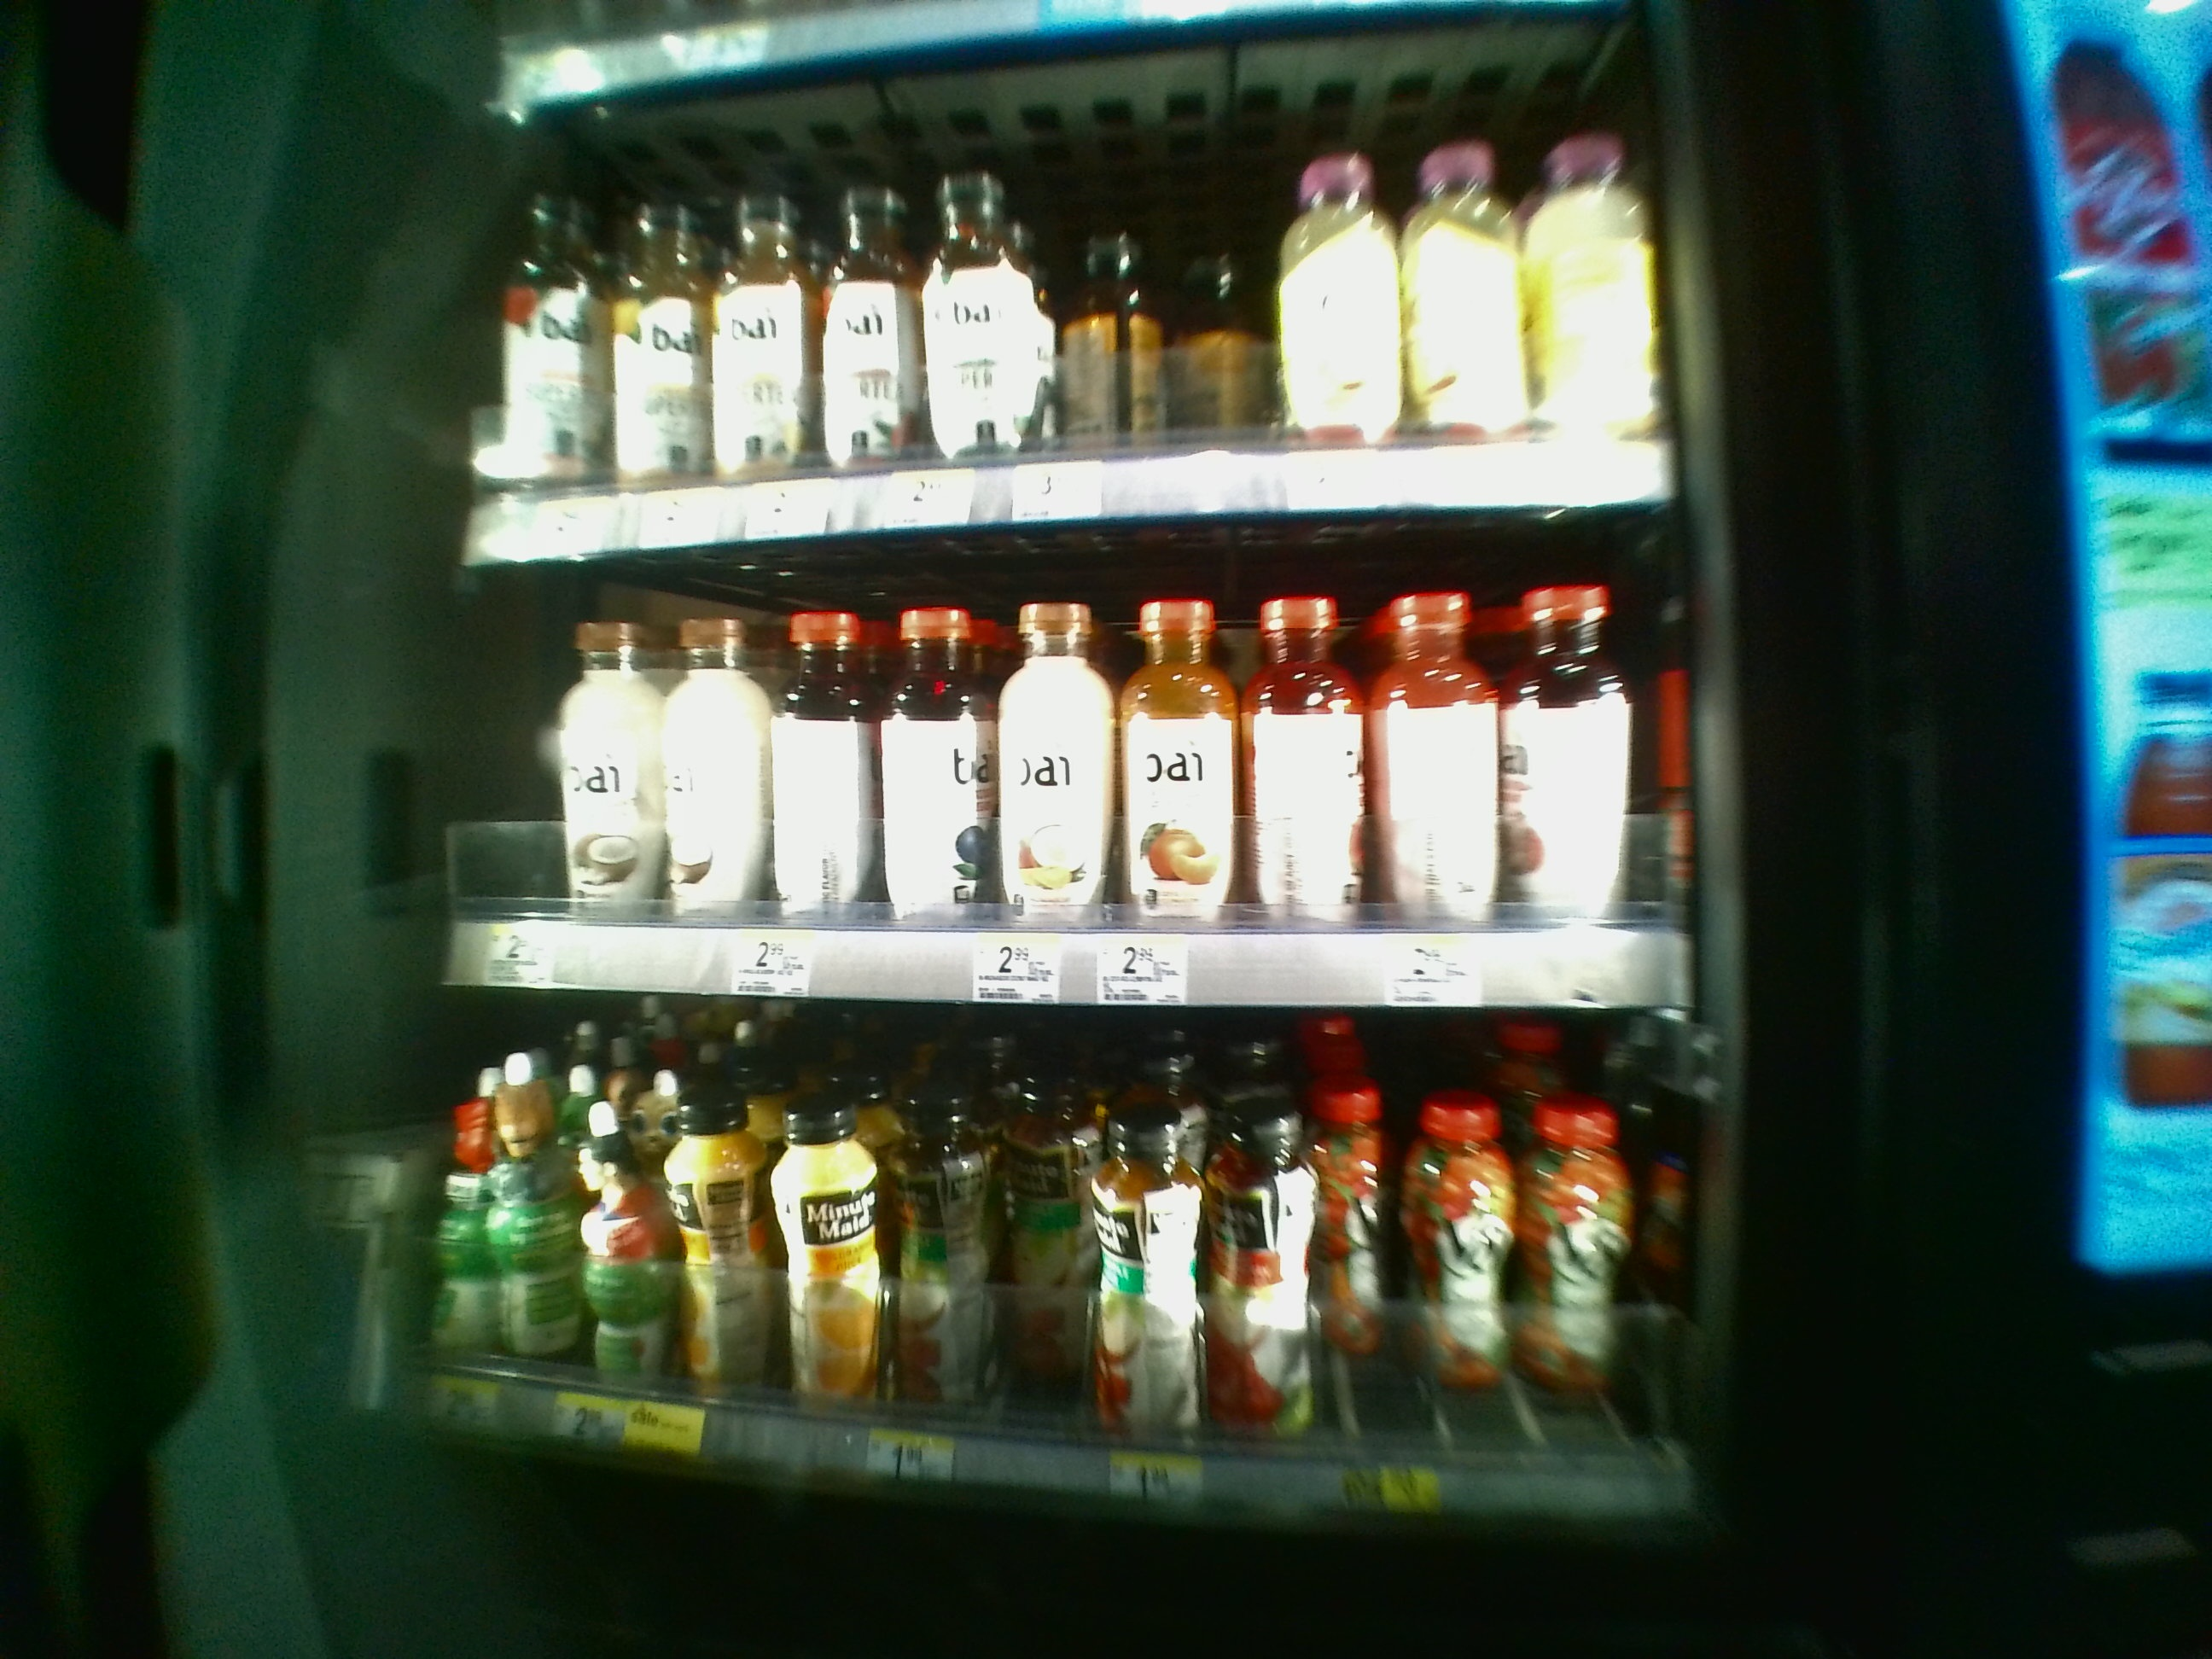shelf: (434, 1002, 1700, 1476), (465, 117, 1662, 573), (446, 591, 1703, 988)
